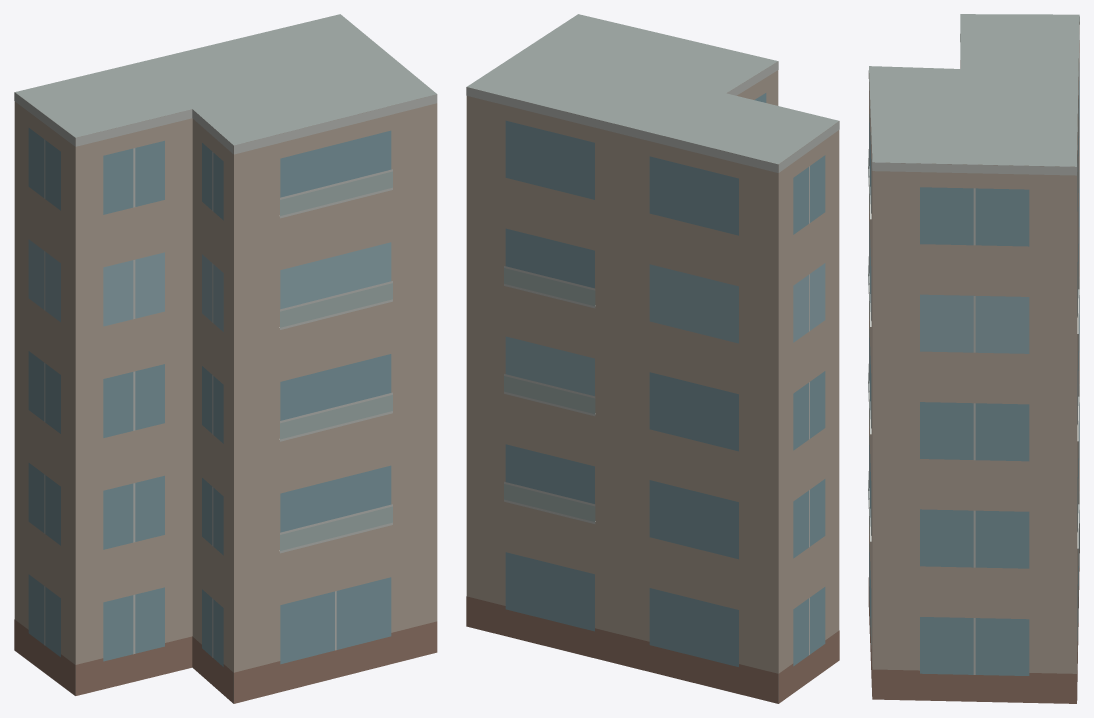
The model's file is survey-upis-32471520.glb.
3 views of the same model, side by side, from view 1: azimuth 30°, elevation 25°; view 2: azimuth 150°, elevation 25°; view 3: azimuth 270°, elevation 25° (orthographic). The views are drawn at different scales.
Visible parts, largest first — view 1: survey-upis-32471520.tmp; view 2: survey-upis-32471520.tmp; view 3: survey-upis-32471520.tmp.
Part boxes in pixels (x1,y1,x2,y2): survey-upis-32471520.tmp: (14,14,437,703); survey-upis-32471520.tmp: (466,14,839,703); survey-upis-32471520.tmp: (868,14,1079,703).
Size of the model in its own units: 9.19 by 15.05 by 5.38.
